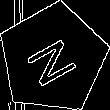N_NE: (22, 29, 84, 88)
